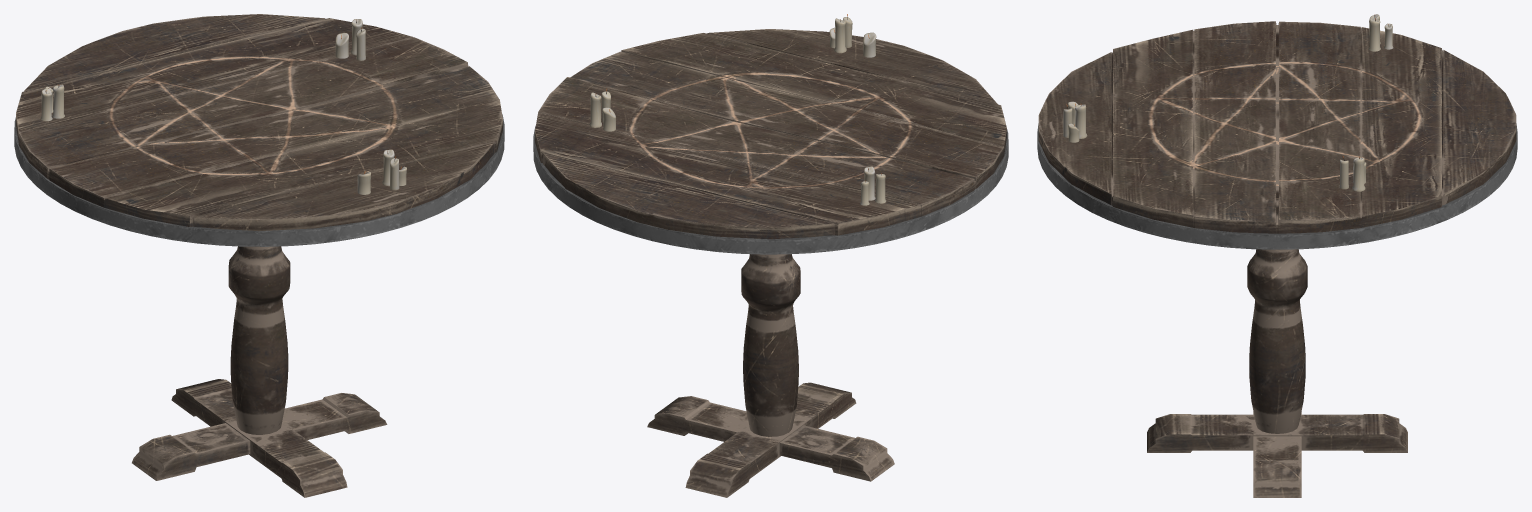
File: forturntable.glb
3 renders of one model, left to right at view 1: azimuth 30°, elevation 25°; view 2: azimuth 150°, elevation 25°; view 3: azimuth 270°, elevation 25°, orthographic. The views are drawn at different scales.
Parts seen in each view (by area): view 1: kolco_low.001; view 2: kolco_low.001; view 3: kolco_low.001.
Boxes of the visible parts, x1,y1,x2,y2 form: kolco_low.001: (14, 14, 504, 497); kolco_low.001: (533, 14, 1008, 497); kolco_low.001: (1037, 14, 1517, 497).
Size of the model in its own units: 3.79 by 3.07 by 3.79.
1 material, 1 textured.
